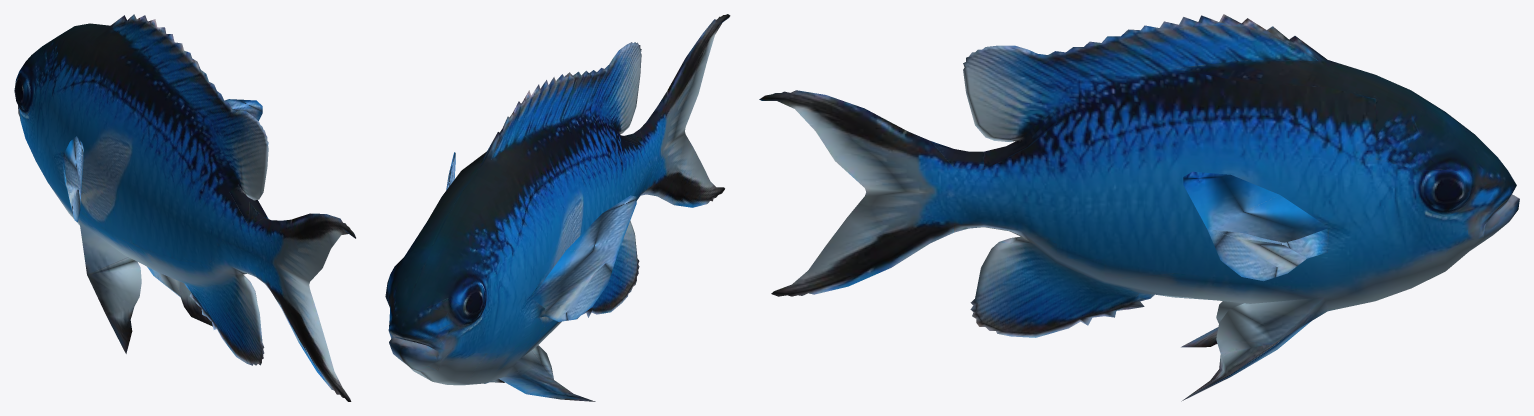
The model's file is chromis_blauw.glb.
3 views of the same model, side by side, from view 1: azimuth 30°, elevation 25°; view 2: azimuth 150°, elevation 25°; view 3: azimuth 270°, elevation 25° (orthographic). The views are drawn at different scales.
Parts seen in each view (by area): view 1: tripo_node_4eb433a4-a7d7-41fa-b86a-6d8635fd76d8; view 2: tripo_node_4eb433a4-a7d7-41fa-b86a-6d8635fd76d8; view 3: tripo_node_4eb433a4-a7d7-41fa-b86a-6d8635fd76d8.
Part boxes in pixels (left/top/right/bottom): tripo_node_4eb433a4-a7d7-41fa-b86a-6d8635fd76d8: left=14, top=14, right=355, bottom=401; tripo_node_4eb433a4-a7d7-41fa-b86a-6d8635fd76d8: left=385, top=14, right=730, bottom=401; tripo_node_4eb433a4-a7d7-41fa-b86a-6d8635fd76d8: left=759, top=14, right=1519, bottom=401.
Bounding box in the file's own units: 0.0904 × 0.15 × 0.2871.
Materials: 1 (1 with a texture image).
